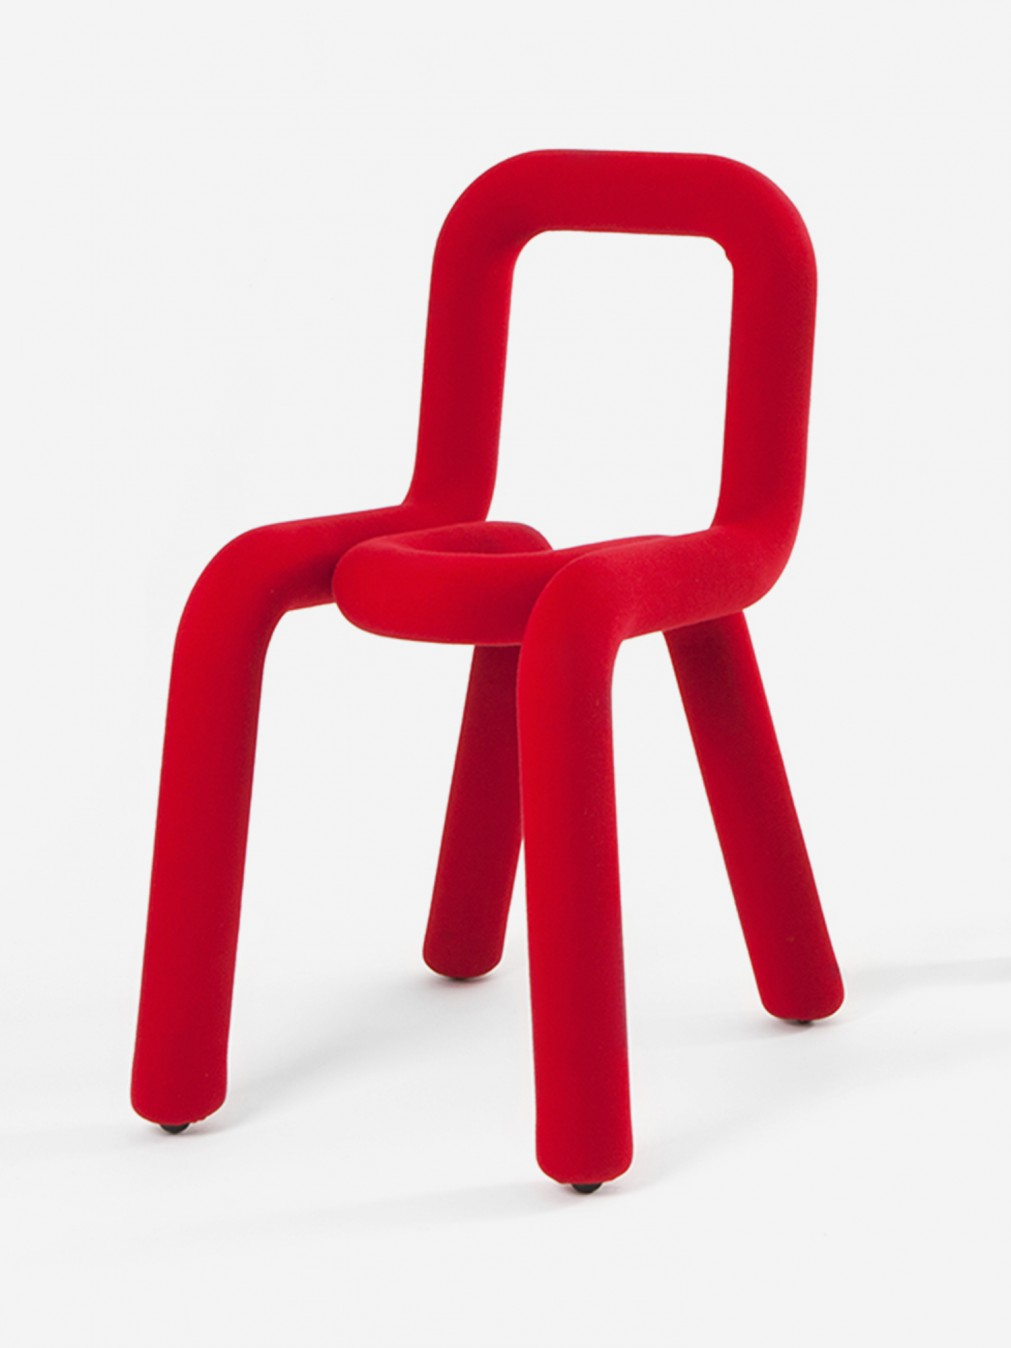kursi: (126, 142, 862, 1192)
